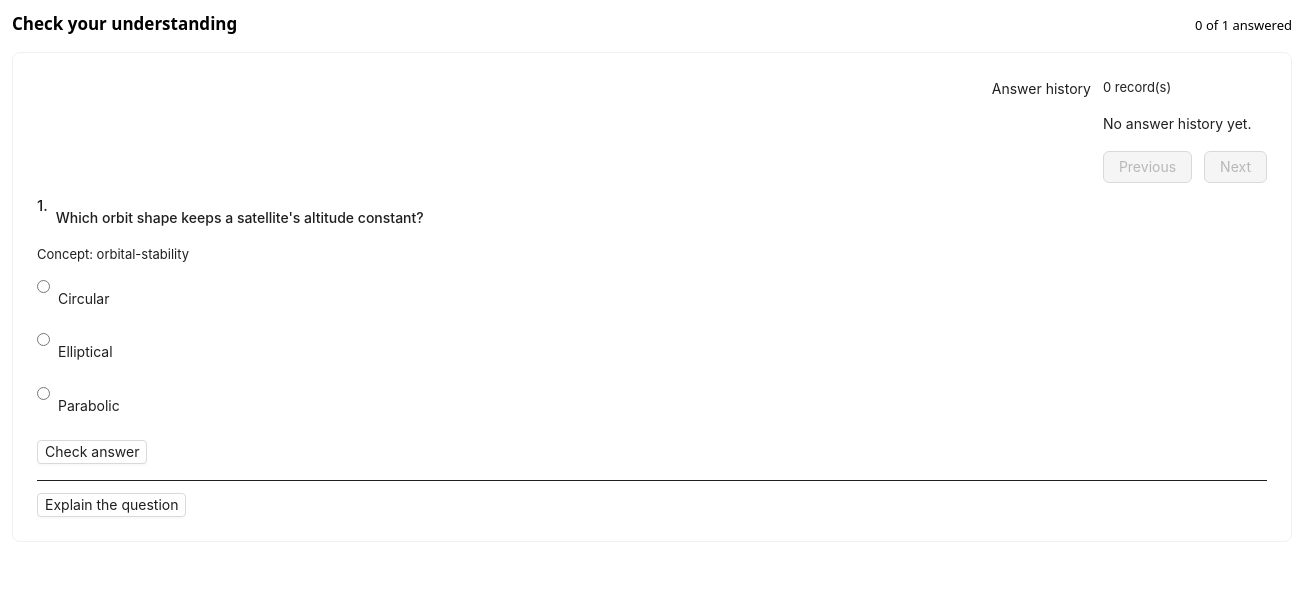
Test: editing the answer clears a stale validation error › clears it when an mcq option is picked
The image size is (1304, 591).
Click the button "Check answer" at (92, 452), box [37,440,148,464]
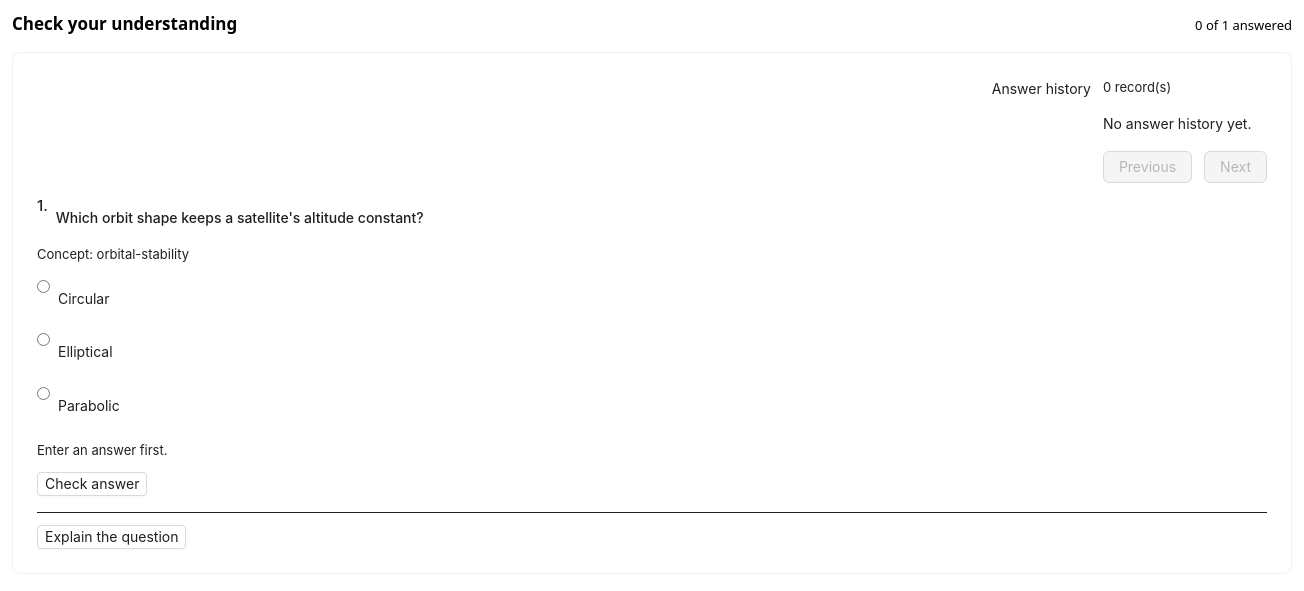
Result: the message reads "Enter an answer first." at [37,442,168,458]
Click the radio button labelled "Circular" at (44, 287), box [37,280,50,293]
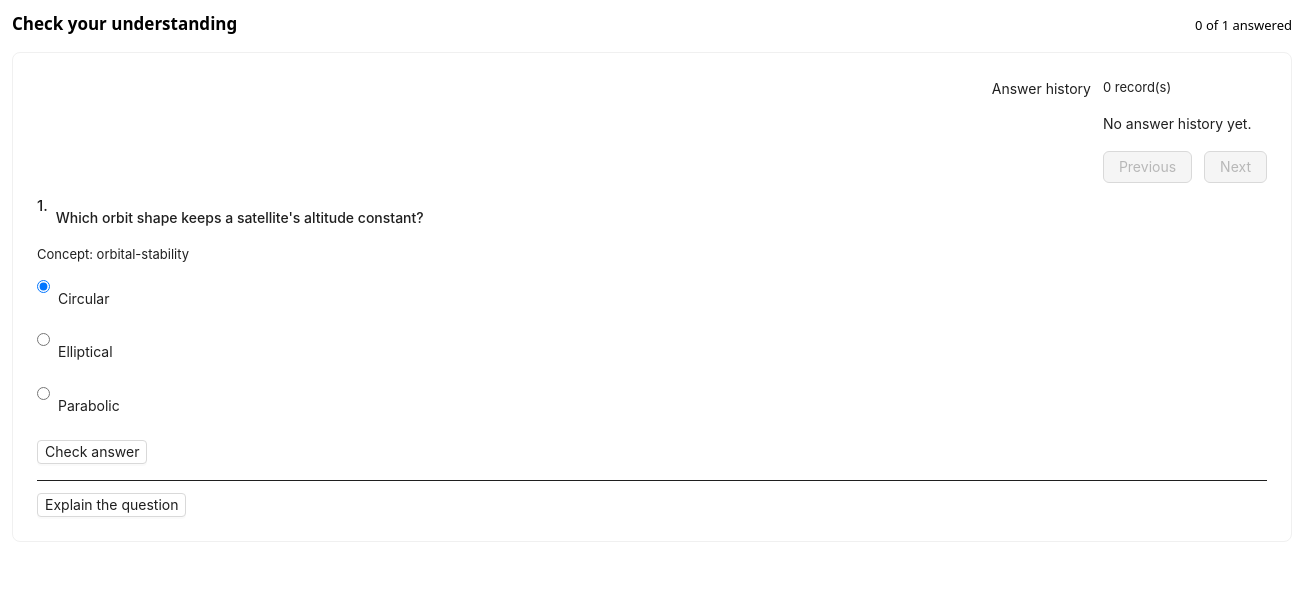
Result: the message "Enter an answer first." is gone
